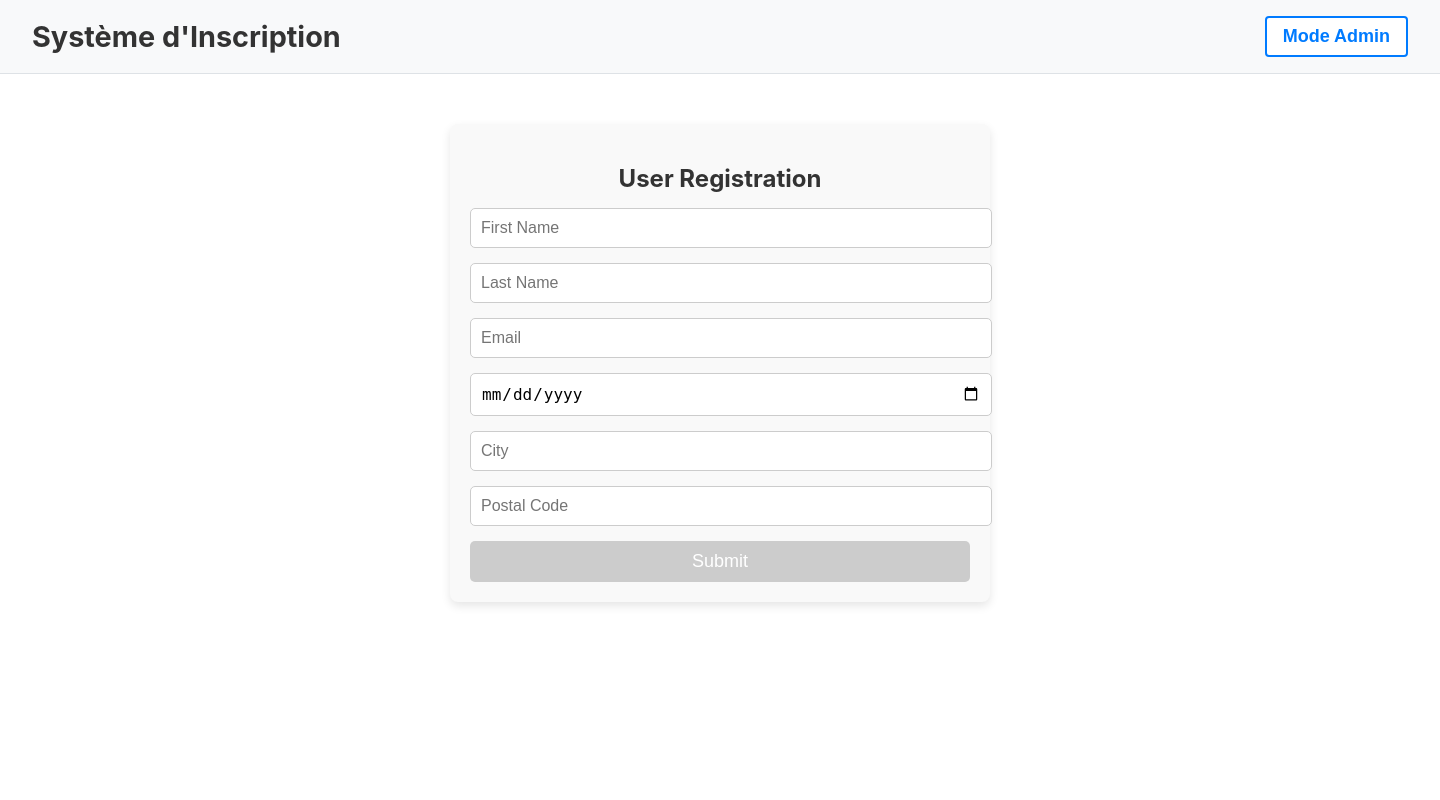
Employee Registration System - E2E › Admin Dashboard - User Management › should allow viewing user details
The width and height of the screenshot is (1440, 800).
Click the button "Mode Admin".
click(1337, 37)  # box [1265,16,1408,57]
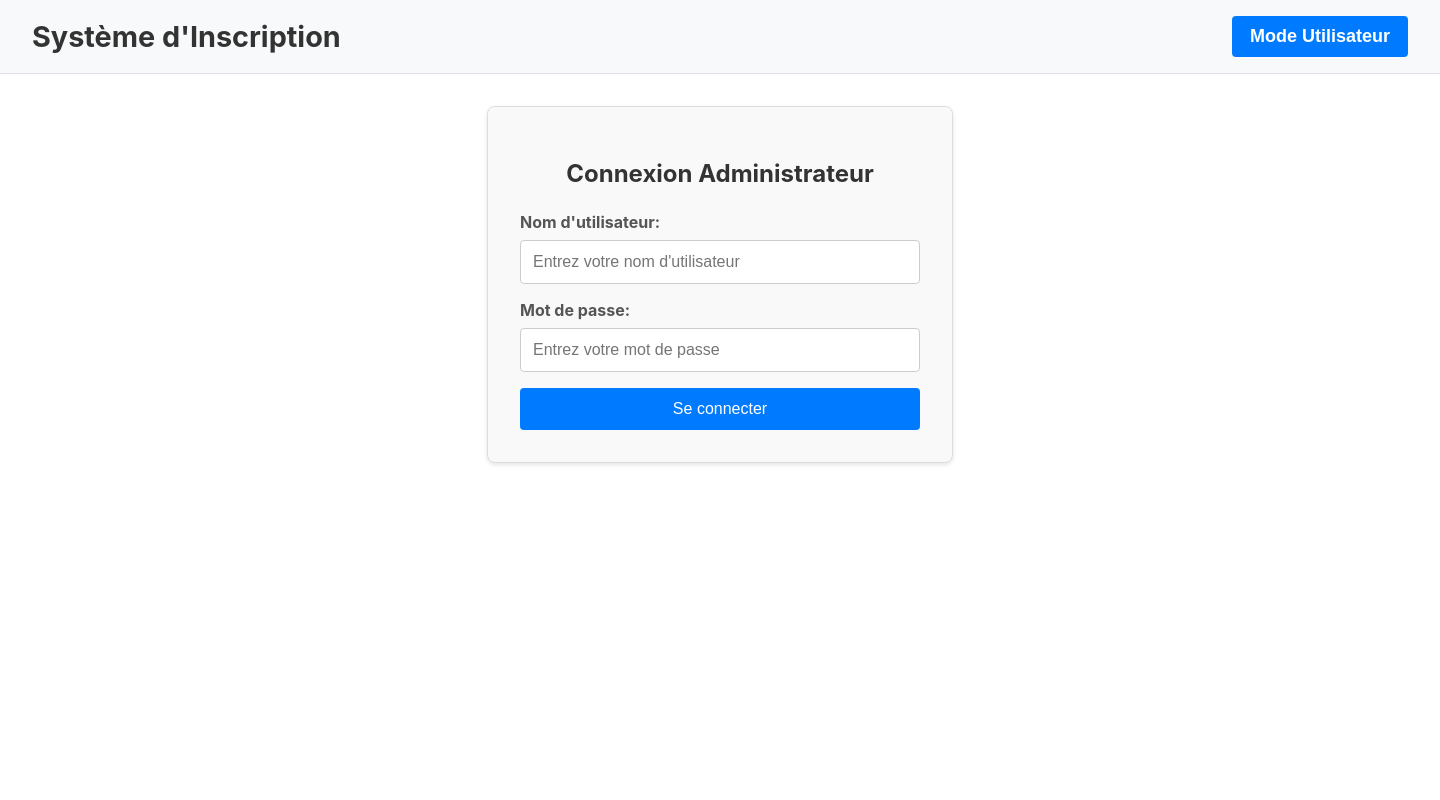
Type "admin" into the field with id "username".
click(720, 262); type("admin")  # box [520,240,920,284]
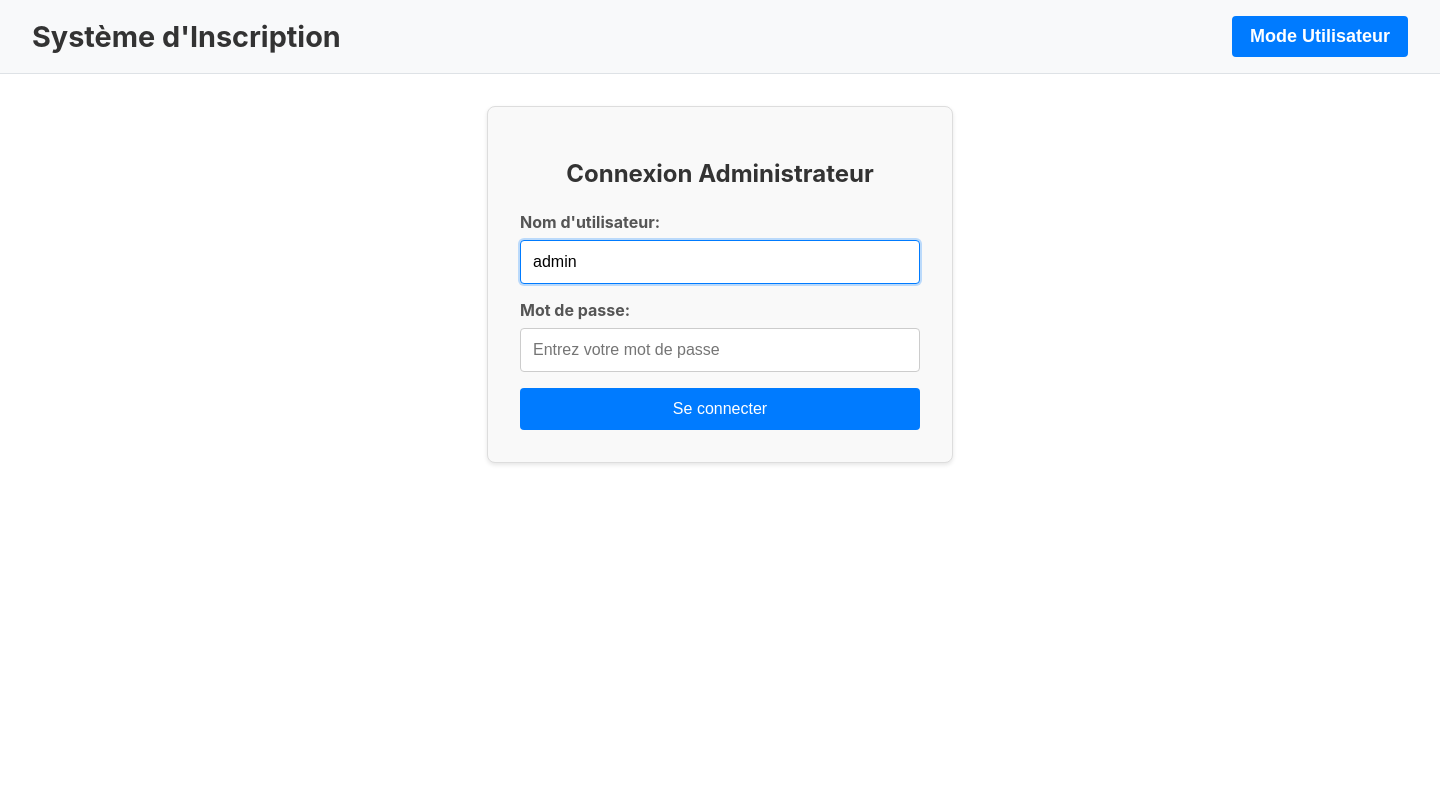
Type "admin123" into the password field labelled "Mot de passe:".
click(720, 350); type("admin123")  # box [520,328,920,372]
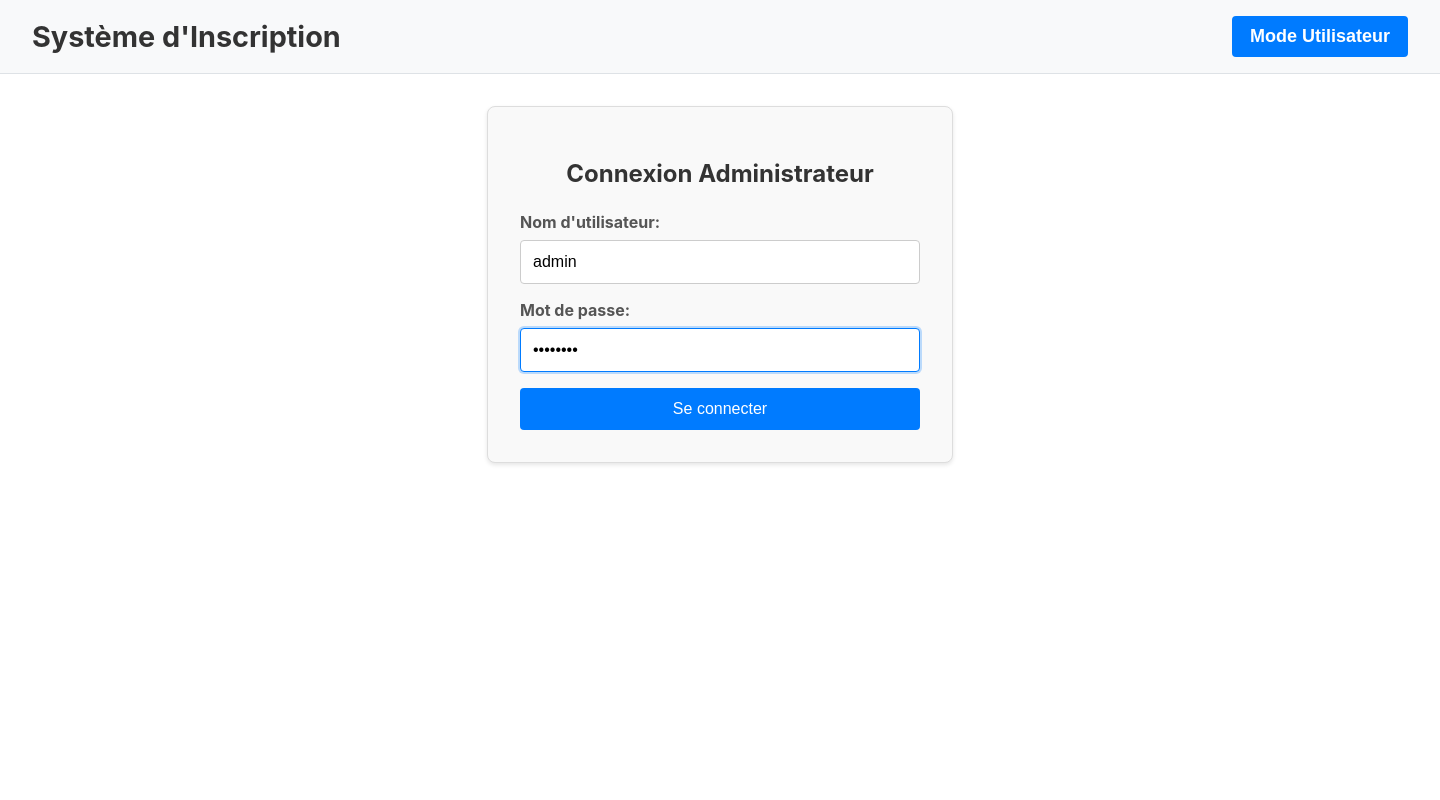
Click the submit button.
click(720, 409)  # box [520,388,920,430]
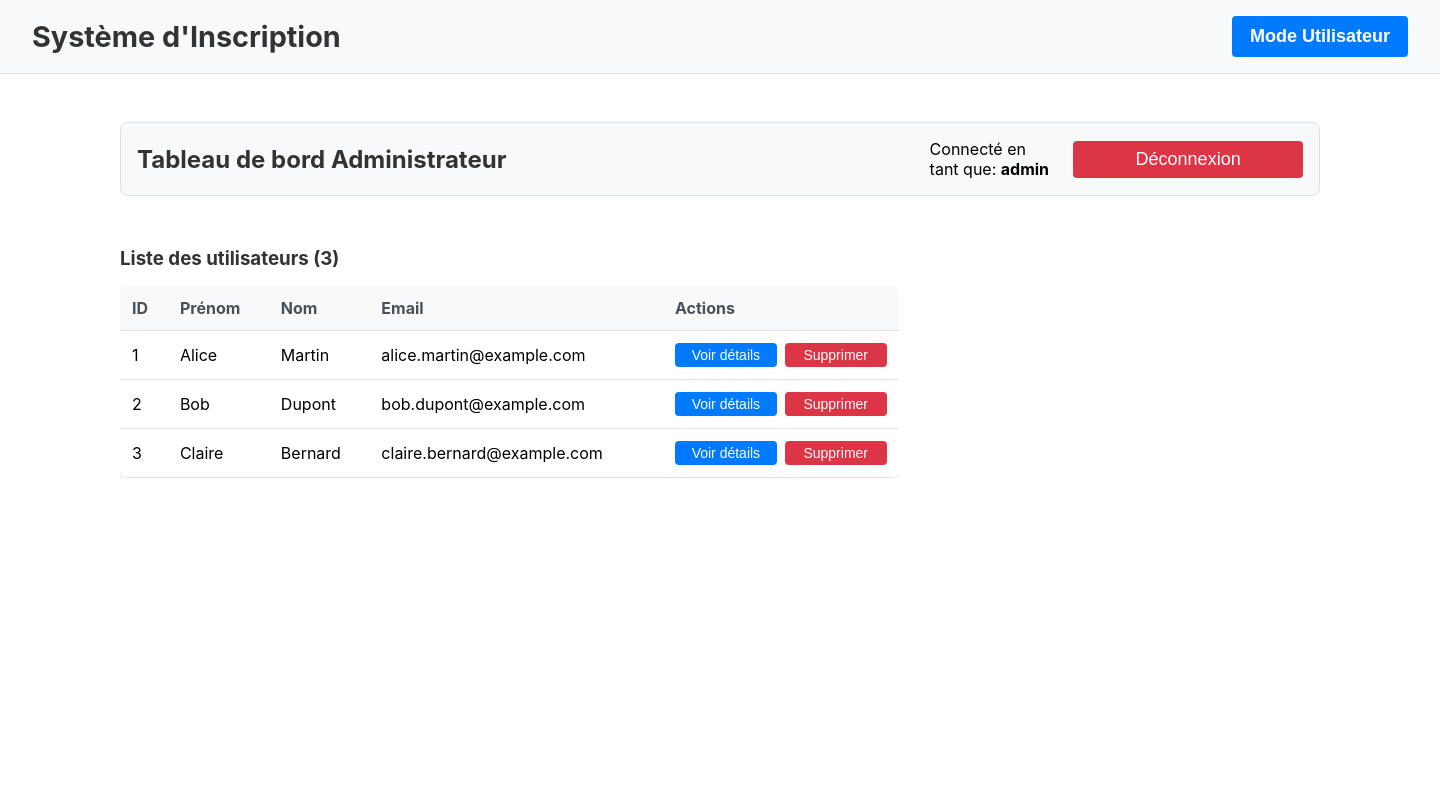
Click the button "Voir détails" next to "alice.martin@example.com".
click(726, 355)  # box [675,343,777,367]
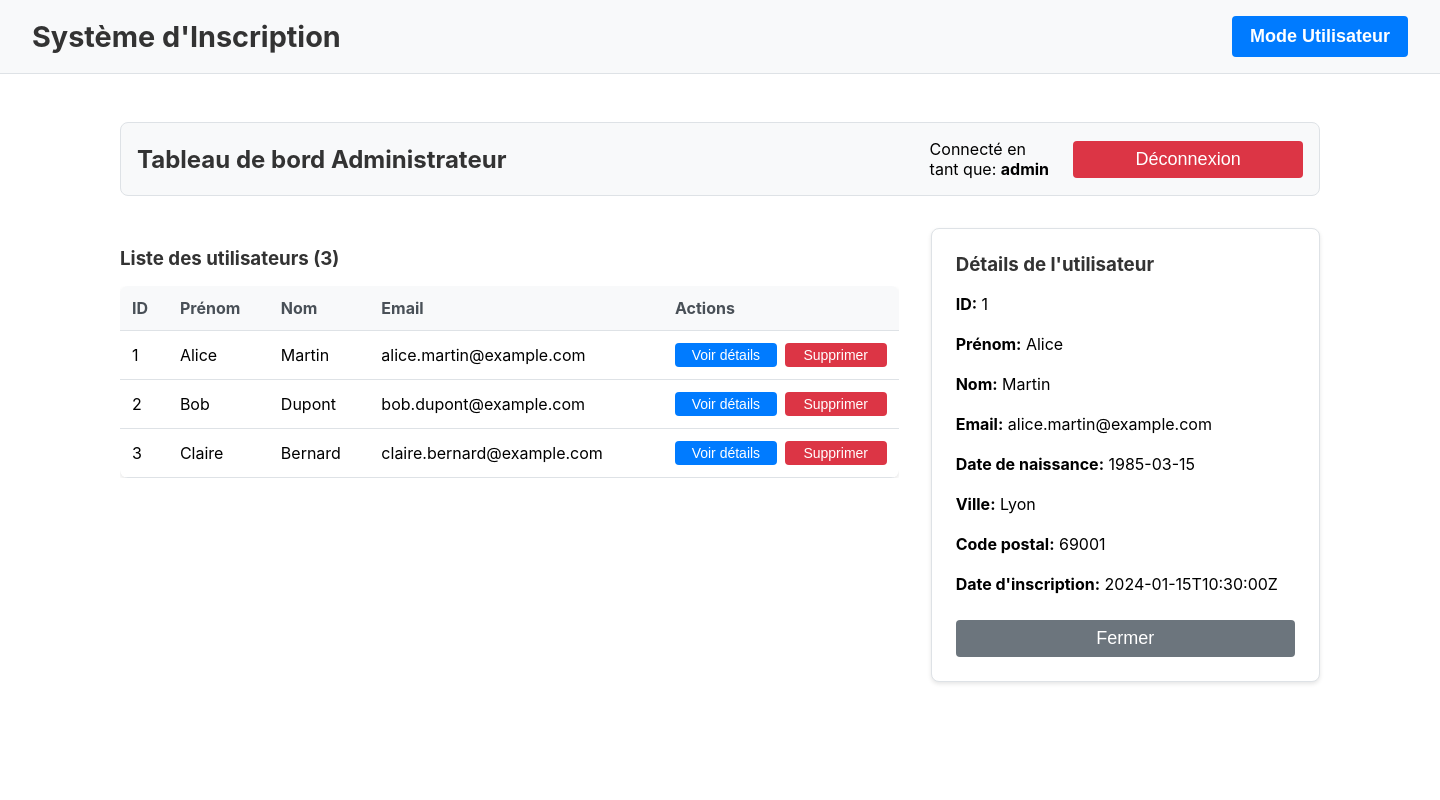
Check: the element with class "user-details" is shown, box [931,228,1320,682]
Check: the heading "Détails de l'utilisateur" is shown, box [956,253,1154,276]
Check: the text with class "user-details" reads "ID:", box [956,294,977,314]
